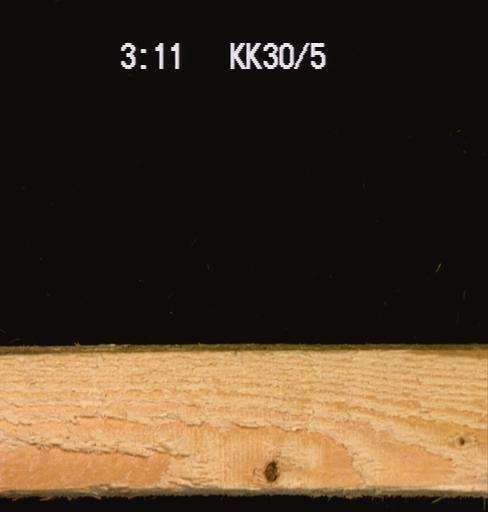dry_knot: (261, 455, 281, 484)
small_knot: (451, 432, 469, 448)
wave: (383, 344, 486, 359)
